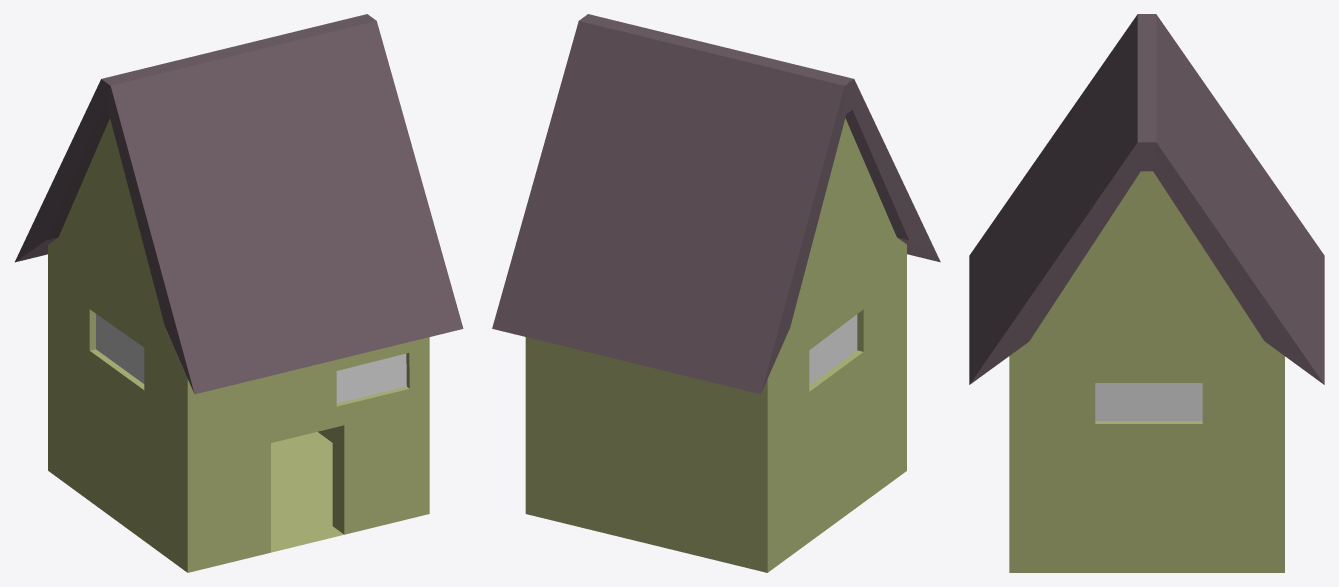
The model's file is cabin.fbx.
3 views of the same model, side by side, from view 1: azimuth 30°, elevation 25°; view 2: azimuth 150°, elevation 25°; view 3: azimuth 270°, elevation 25° (orthographic).
Visible parts, largest first — view 1: Cube.001, Cube, Cube.002, Cube.004; view 2: Cube.001, Cube, Cube.004; view 3: Cube, Cube.001, Cube.003.
Boxes of the visible parts, x1,y1,x2,y2 form: Cube.001: (15, 14, 463, 394); Cube: (48, 118, 429, 572); Cube.002: (336, 353, 406, 403); Cube.004: (96, 314, 144, 383); Cube.001: (492, 14, 940, 394); Cube: (525, 118, 906, 572); Cube.004: (809, 314, 857, 385); Cube: (1009, 171, 1284, 572); Cube.001: (969, 14, 1324, 384); Cube.003: (1095, 383, 1202, 420).
Size of the model in its own units: 1011 by 1591 by 1174.
